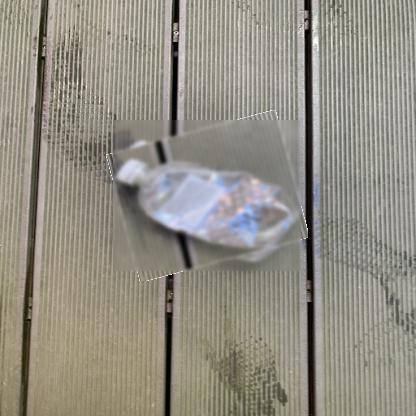plastic-bottles: (113, 120, 302, 272)
